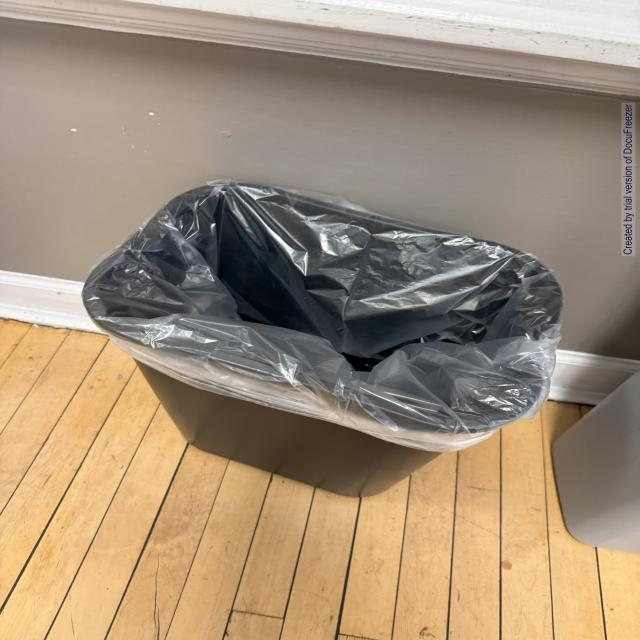Trash bin: (67, 160, 561, 540)
